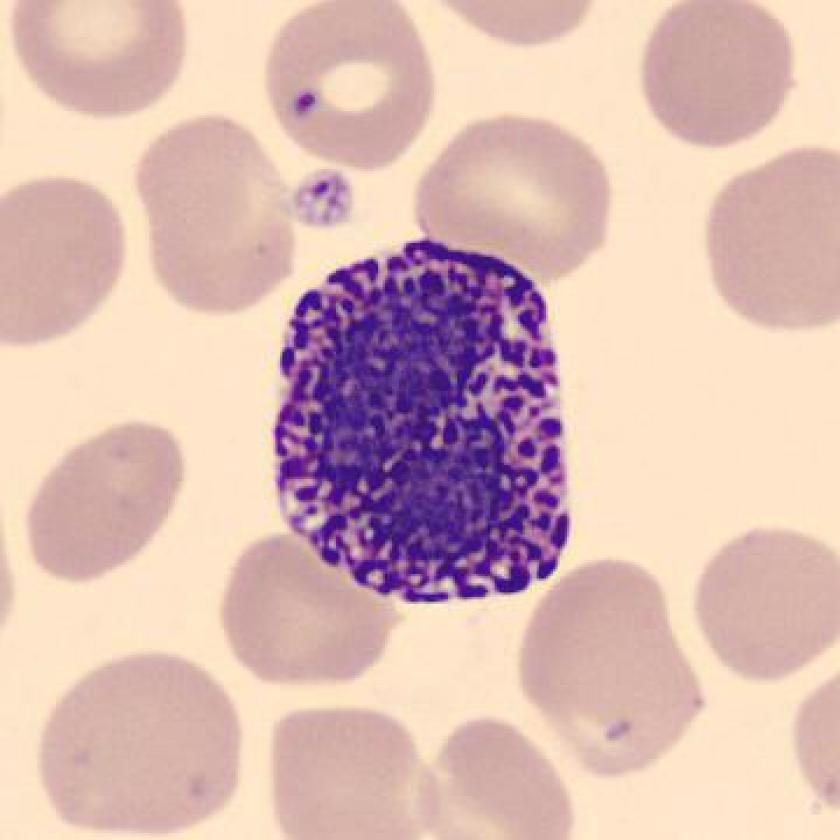basophil: (272, 244, 580, 598)
